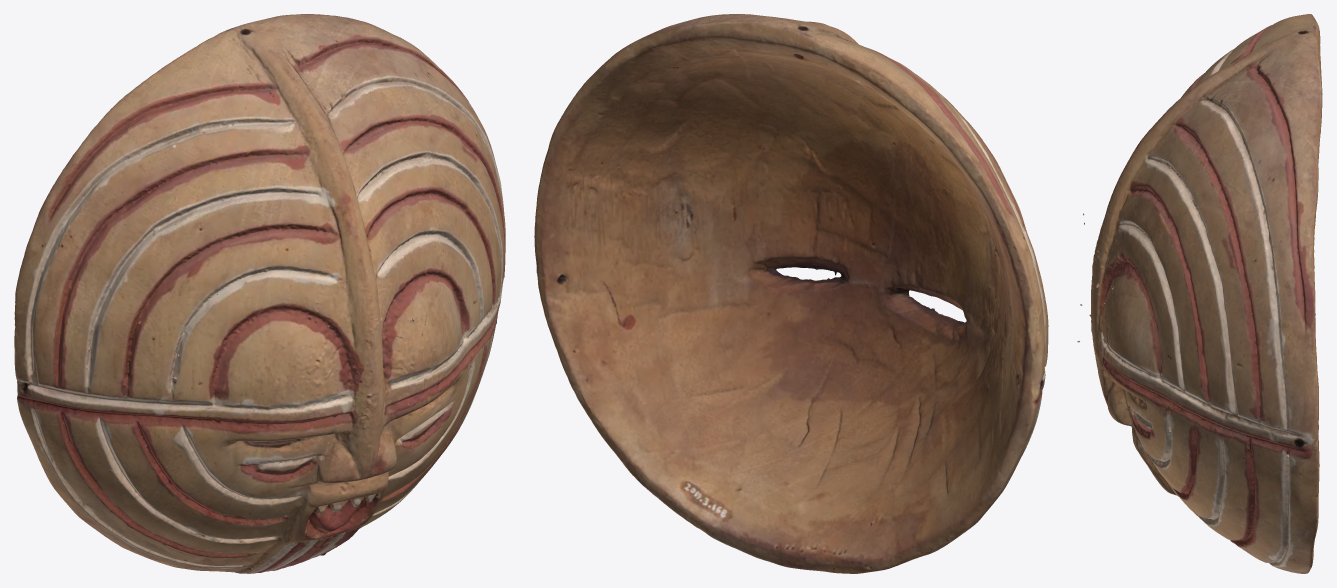
The model's file is preview.glb.
3 renders of one model, left to right at view 1: azimuth 30°, elevation 25°; view 2: azimuth 150°, elevation 25°; view 3: azimuth 270°, elevation 25°, orthographic. The views are drawn at different scales.
Visible parts, largest first — view 1: Object_2; view 2: Object_2; view 3: Object_2.
Boxes of the visible parts, x1=… form: Object_2: x1=14, y1=14, x2=505, y2=573; Object_2: x1=534, y1=14, x2=1048, y2=573; Object_2: x1=1077, y1=14, x2=1322, y2=573.
Bounding box in the file's own units: 1.09 × 1.14 × 0.4915.
1 material, 1 textured.
